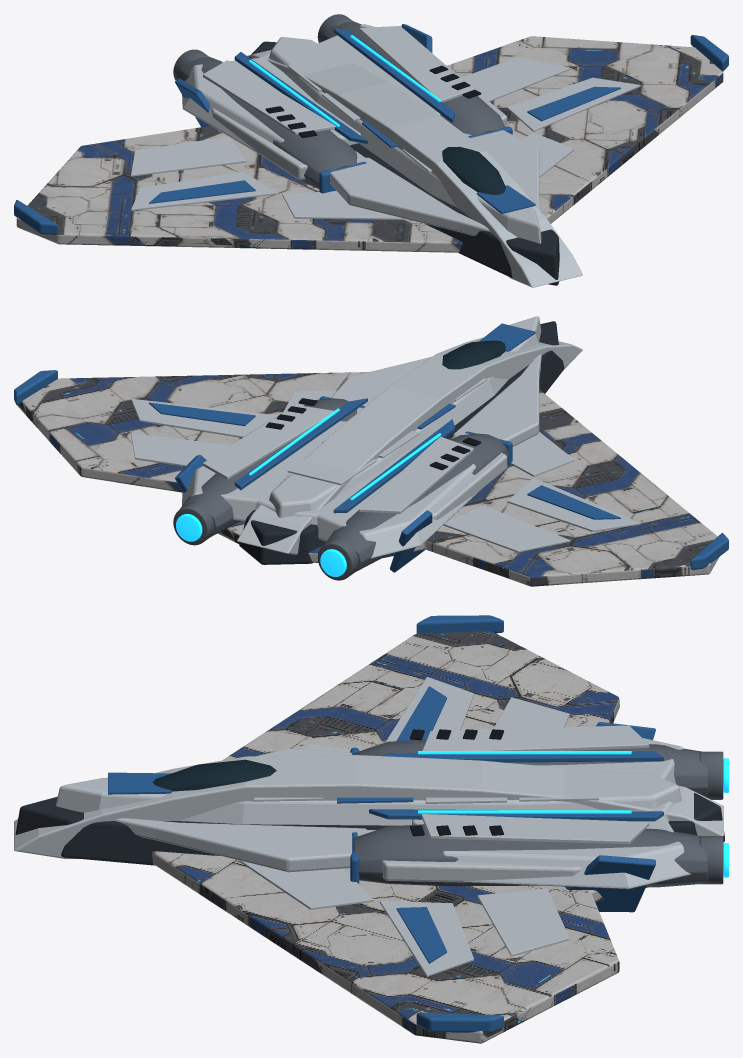
The model's file is vanguard-interceptor-v4.glb.
3 renders of one model, top to bottom at view 1: azimuth 30°, elevation 25°; view 2: azimuth 150°, elevation 25°; view 3: azimuth 270°, elevation 25°, orthographic. The views are drawn at different scales.
Visible parts, largest first — view 1: Vanguard__blended_delta__lod0, Vanguard__aerodynamic_core__lod0, Vanguard__dorsal_spine__lod0, Vanguard__forward_cheek_-1__lod0, Vanguard__aft_engine_deck__lod0, Vanguard__ventral_keel__lod0, Vanguard__integrated_engine_-1__lod0, Vanguard__engine_armor_cap_-1__lod0, Vanguard__engine_armor_cap_+1__lod0, Vanguard__wing_armor_aft_-1__lod0, Vanguard__forward_cheek_+1__lod0, Vanguard__wing_armor_aft_+1__lod0 (+16 smaller); view 2: Vanguard__blended_delta__lod0, Vanguard__aerodynamic_core__lod0, Vanguard__aft_engine_deck__lod0, Vanguard__dorsal_spine__lod0, Vanguard__ventral_keel__lod0, Vanguard__forward_cheek_-1__lod0, Vanguard__engine_armor_cap_-1__lod0, Vanguard__engine_armor_cap_+1__lod0, Vanguard__integrated_engine_-1__lod0, Vanguard__wing_armor_aft_-1__lod0, Vanguard__integrated_engine_+1__lod0, Vanguard__wing_armor_mid_-1__lod0 (+21 smaller); view 3: Vanguard__blended_delta__lod0, Vanguard__aerodynamic_core__lod0, Vanguard__dorsal_spine__lod0, Vanguard__forward_cheek_+1__lod0, Vanguard__aft_engine_deck__lod0, Vanguard__integrated_engine_+1__lod0, Vanguard__ventral_keel__lod0, Vanguard__engine_armor_cap_+1__lod0, Vanguard__engine_armor_cap_-1__lod0, Vanguard__wing_armor_aft_+1__lod0, Vanguard__engine_shoulder_+1__lod0, Vanguard__wing_armor_forward_+1__lod0 (+18 smaller).
Part boxes in pixels (x1,y1,x2,y2): Vanguard__blended_delta__lod0: (16, 36, 723, 252); Vanguard__aerodynamic_core__lod0: (247, 50, 582, 287); Vanguard__dorsal_spine__lod0: (269, 37, 541, 243); Vanguard__forward_cheek_-1__lod0: (330, 157, 489, 235); Vanguard__aft_engine_deck__lod0: (182, 24, 440, 157); Vanguard__ventral_keel__lod0: (249, 41, 559, 285); Vanguard__integrated_engine_-1__lod0: (177, 56, 357, 188); Vanguard__engine_armor_cap_-1__lod0: (203, 60, 335, 135); Vanguard__engine_armor_cap_+1__lod0: (359, 26, 473, 102); Vanguard__wing_armor_aft_-1__lod0: (131, 136, 246, 176); Vanguard__forward_cheek_+1__lod0: (464, 130, 540, 210); Vanguard__wing_armor_aft_+1__lod0: (461, 57, 570, 101); Vanguard__blended_delta__lod0: (17, 372, 719, 586); Vanguard__aerodynamic_core__lod0: (237, 337, 582, 554); Vanguard__aft_engine_deck__lod0: (182, 421, 478, 558); Vanguard__dorsal_spine__lod0: (269, 316, 541, 517); Vanguard__ventral_keel__lod0: (239, 321, 564, 564); Vanguard__forward_cheek_-1__lod0: (453, 354, 541, 446); Vanguard__engine_armor_cap_-1__lod0: (359, 436, 473, 513); Vanguard__engine_armor_cap_+1__lod0: (203, 404, 334, 479); Vanguard__integrated_engine_-1__lod0: (324, 433, 509, 572); Vanguard__wing_armor_aft_-1__lod0: (443, 505, 570, 552); Vanguard__integrated_engine_+1__lod0: (179, 398, 356, 536); Vanguard__wing_armor_mid_-1__lod0: (507, 477, 640, 531); Vanguard__blended_delta__lod0: (152, 631, 646, 1043); Vanguard__aerodynamic_core__lod0: (14, 755, 723, 858); Vanguard__dorsal_spine__lod0: (55, 772, 681, 825); Vanguard__forward_cheek_+1__lod0: (115, 818, 366, 872); Vanguard__aft_engine_deck__lod0: (412, 738, 690, 889); Vanguard__integrated_engine_+1__lod0: (353, 824, 708, 887); Vanguard__ventral_keel__lod0: (15, 793, 724, 865); Vanguard__engine_armor_cap_+1__lod0: (421, 814, 649, 844); Vanguard__engine_armor_cap_-1__lod0: (422, 725, 649, 750); Vanguard__wing_armor_aft_+1__lod0: (477, 888, 569, 956); Vanguard__engine_shoulder_+1__lod0: (358, 830, 581, 882); Vanguard__wing_armor_forward_+1__lod0: (240, 861, 373, 909).
Bounding box in the file's own units: 17.08 × 1.82 × 12.71.
8 materials, 1 textured.
